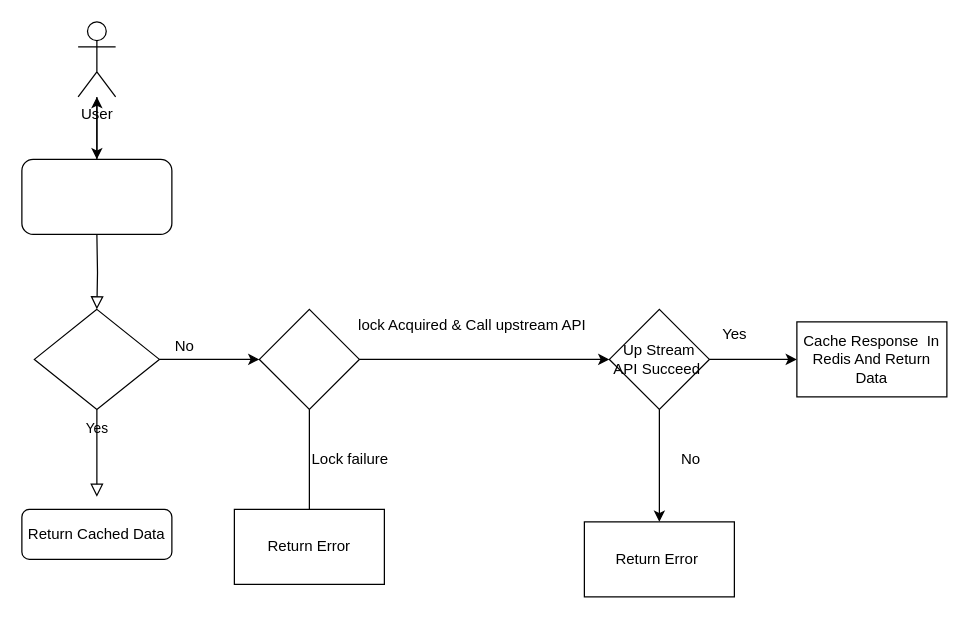
This 969x619 diagram has some shape labels left out. Here are the shapes that lost their labels. From the top down, the box of each, then its label:
(21, 158, 172, 234): Get Data
(33, 308, 159, 409): Does Data Present In Cache
(258, 308, 359, 409): Acquire Lock
